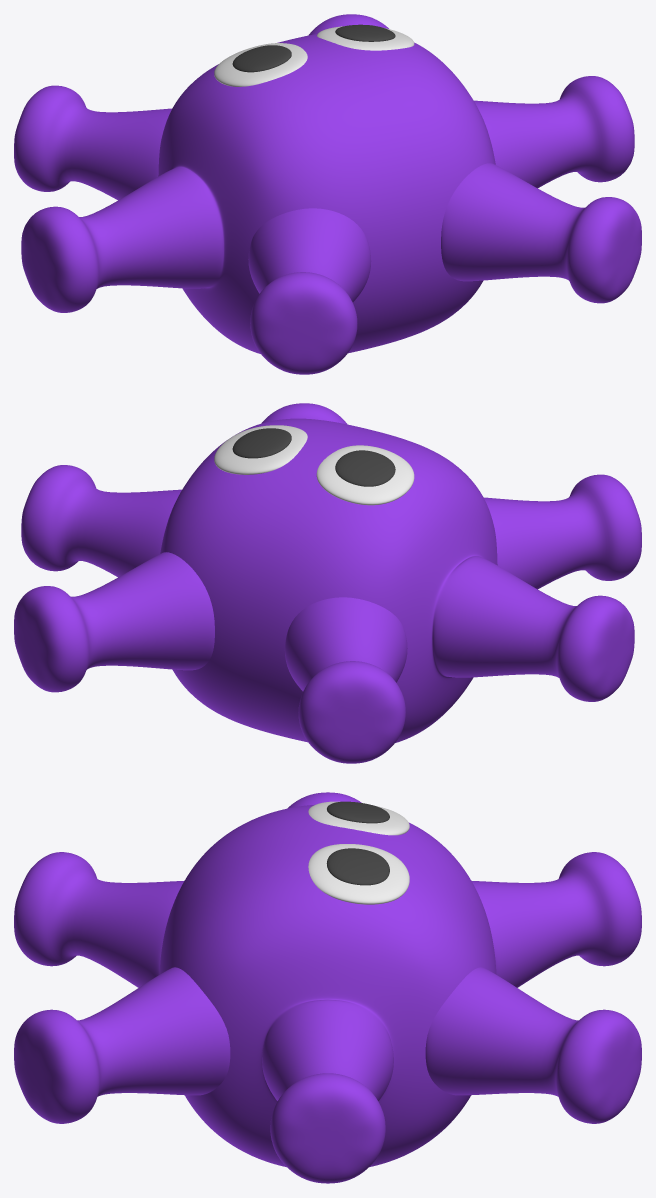
The model's file is Bacteria1.fbx.
3 renders of one model, top to bottom at view 1: azimuth 30°, elevation 25°; view 2: azimuth 150°, elevation 25°; view 3: azimuth 270°, elevation 25°, orthographic. The views are drawn at different scales.
Visible parts, largest first — view 1: Cube.002; view 2: Cube.002; view 3: Cube.002.
Boxes of the visible parts, x1,y1,x2,y2 form: Cube.002: (14, 14, 641, 374); Cube.002: (14, 403, 641, 763); Cube.002: (14, 792, 641, 1183).
Bounding box in the file's own units: 258 × 123 × 226.
